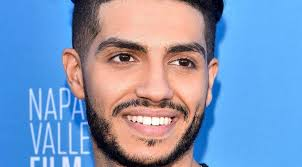middle_eastern_male: (83, 1, 222, 154)
